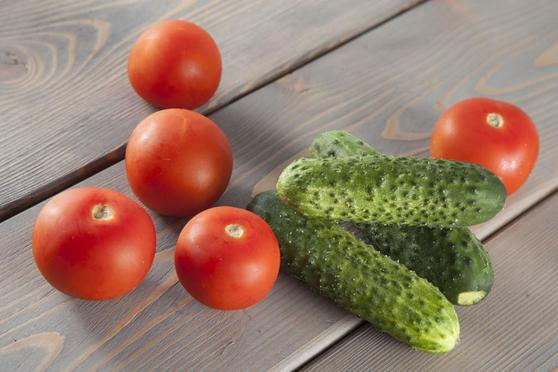cucumber: (274, 152, 511, 225)
tomato: (32, 182, 154, 300), (114, 104, 235, 206), (169, 203, 280, 313), (121, 16, 223, 110)
